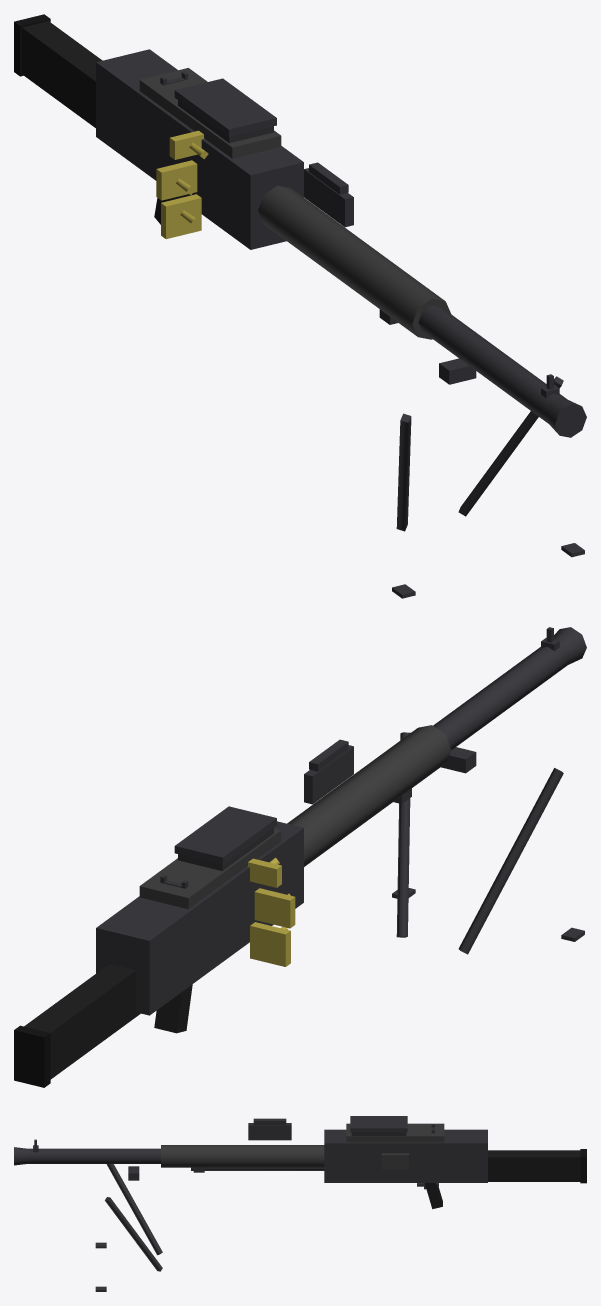
3 views of the same model, one above another, from view 1: azimuth 30°, elevation 25°; view 2: azimuth 150°, elevation 25°; view 3: azimuth 270°, elevation 25° (orthographic). The views are drawn at different scales.
Parts seen in each view (by area): view 1: Mesh_Receiver, Mesh_HeatShield, Mesh_Buttstock, Mesh_Barrel, Mesh_FeedTrayCover, Mesh_ReceiverCover, Mesh_CarryHandle, Mesh_AmmoBeltLow, Mesh_BipodRight, Mesh_BipodLeft, Mesh_AmmoBeltMid, Mesh_FlashHider; view 2: Mesh_Receiver, Mesh_HeatShield, Mesh_Buttstock, Mesh_Barrel, Mesh_ReceiverCover, Mesh_FeedTrayCover, Mesh_BipodLeft, Mesh_ButtPad, Mesh_BipodRight, Mesh_AmmoBeltLow, Mesh_CarryHandle, Mesh_AmmoBeltMid (+6 smaller); view 3: Mesh_Receiver, Mesh_HeatShield, Mesh_Buttstock, Mesh_Barrel, Mesh_ReceiverCover, Mesh_FeedTrayCover, Mesh_CarryHandle, Mesh_BipodLeft, Mesh_BipodRight, Mesh_GasTube, Mesh_EjectionPort, Mesh_PistolGrip.
Boxes of the visible parts, x1,y1,x2,y2 form: Mesh_Receiver: (96,49,303,249); Mesh_HeatShield: (258,185,451,339); Mesh_Buttstock: (22,21,102,127); Mesh_Barrel: (418,305,566,423); Mesh_FeedTrayCover: (174,78,276,136); Mesh_ReceiverCover: (139,68,281,158); Mesh_CarryHandle: (304,168,353,227); Mesh_AmmoBeltLow: (161,194,201,239); Mesh_BipodRight: (458,376,563,516); Mesh_BipodLeft: (396,413,411,531); Mesh_AmmoBeltMid: (156,160,197,200); Mesh_FlashHider: (545,398,586,437); Mesh_Receiver: (96,821,303,1015); Mesh_HeatShield: (287,725,451,866); Mesh_Buttstock: (24,964,140,1079); Mesh_Barrel: (433,639,571,749); Mesh_ReceiverCover: (139,828,281,909); Mesh_FeedTrayCover: (174,806,276,864); Mesh_BipodLeft: (458,768,563,954); Mesh_ButtPad: (14,1025,50,1087); Mesh_BipodRight: (396,732,410,937); Mesh_AmmoBeltLow: (250,922,290,966); Mesh_CarryHandle: (304,745,353,804); Mesh_AmmoBeltMid: (254,888,295,928); Mesh_Receiver: (324,1129,487,1182); Mesh_HeatShield: (161,1145,324,1167); Mesh_Buttstock: (488,1150,580,1181); Mesh_Barrel: (27,1148,160,1163); Mesh_ReceiverCover: (346,1123,444,1142); Mesh_FeedTrayCover: (350,1116,407,1132); Mesh_CarryHandle: (248,1123,291,1140); Mesh_BipodLeft: (106,1164,162,1255); Mesh_BipodRight: (105,1197,162,1271); Mesh_GasTube: (191,1167,324,1170); Mesh_EjectionPort: (381,1153,408,1169); Mesh_PistolGrip: (424,1183,442,1209).
Bounding box in the file's own units: 0.205 × 0.301 × 1.05.
